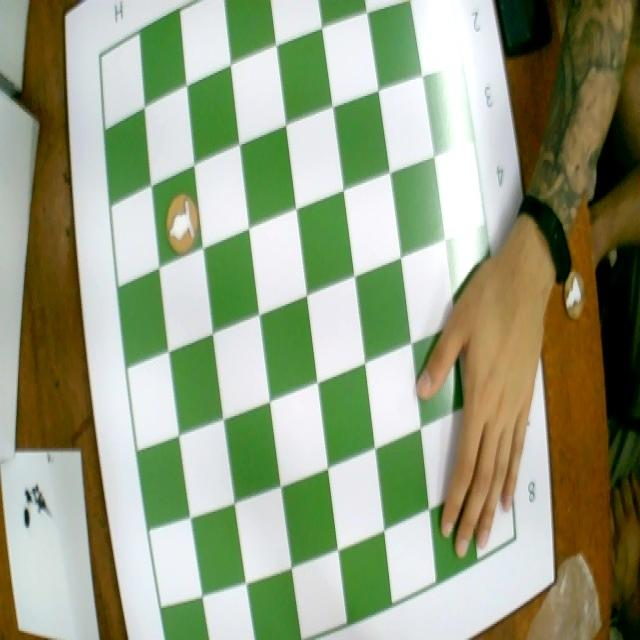chess-pieces: (163, 191, 205, 258)
